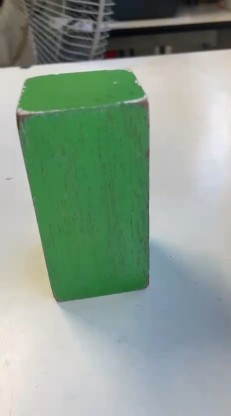green: (0, 26, 182, 329)
